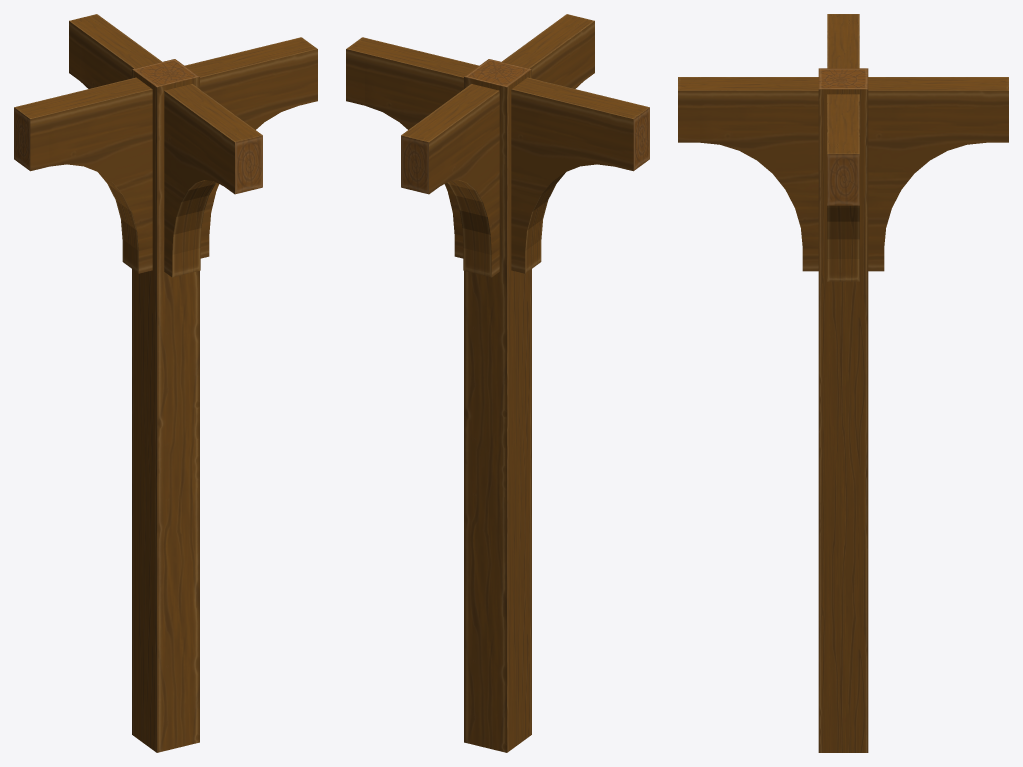
File: SM_Pillar_Exterior_02_Cross.fbx
The picture shows the model from 3 angles, left to right: view 1: azimuth 30°, elevation 25°; view 2: azimuth 150°, elevation 25°; view 3: azimuth 270°, elevation 25°; orthographic projection.
Parts seen in each view (by area): view 1: SM_Pillar_Exterior_02_Cross; view 2: SM_Pillar_Exterior_02_Cross; view 3: SM_Pillar_Exterior_02_Cross.
Part boxes in pixels (x1,y1,x2,y2): SM_Pillar_Exterior_02_Cross: (14,14,317,752); SM_Pillar_Exterior_02_Cross: (346,14,649,752); SM_Pillar_Exterior_02_Cross: (678,14,1008,752).
Bounding box in the file's own units: 1.92 × 4.24 × 1.92.
